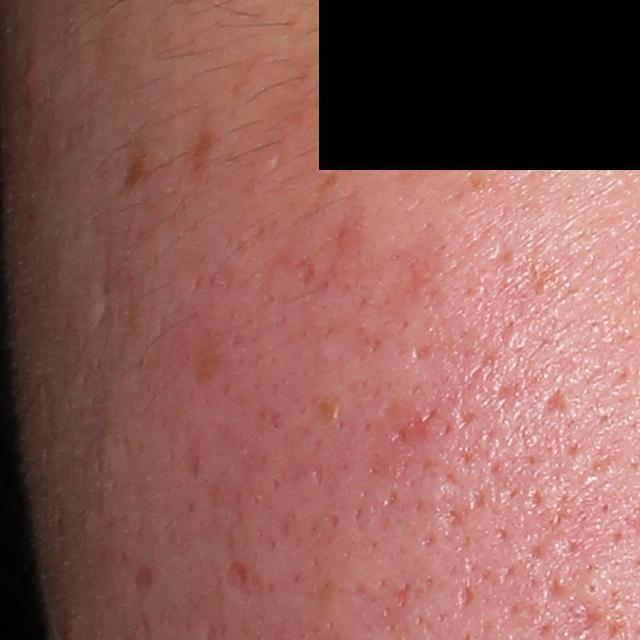atrophic_scar: (539, 386, 576, 421), (453, 583, 474, 612)
comedo: (580, 577, 602, 598)
melasma: (117, 138, 157, 198), (189, 118, 214, 177)
papule: (15, 52, 43, 93)
